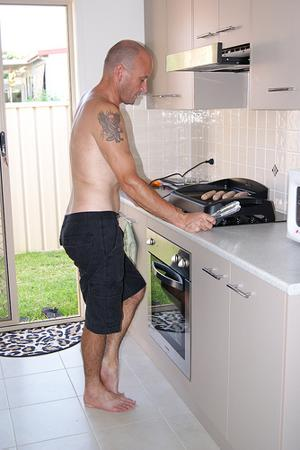person: (62, 38, 212, 419)
